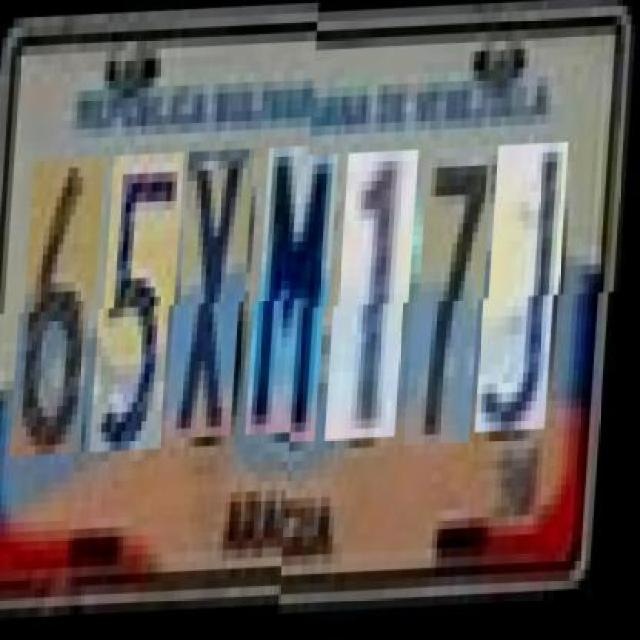1: (336, 154, 421, 443)
5: (100, 164, 186, 464)
6: (20, 166, 106, 466)
7: (415, 151, 496, 451)
j: (486, 148, 571, 438)
m: (256, 158, 341, 447)
x: (176, 161, 256, 450)
